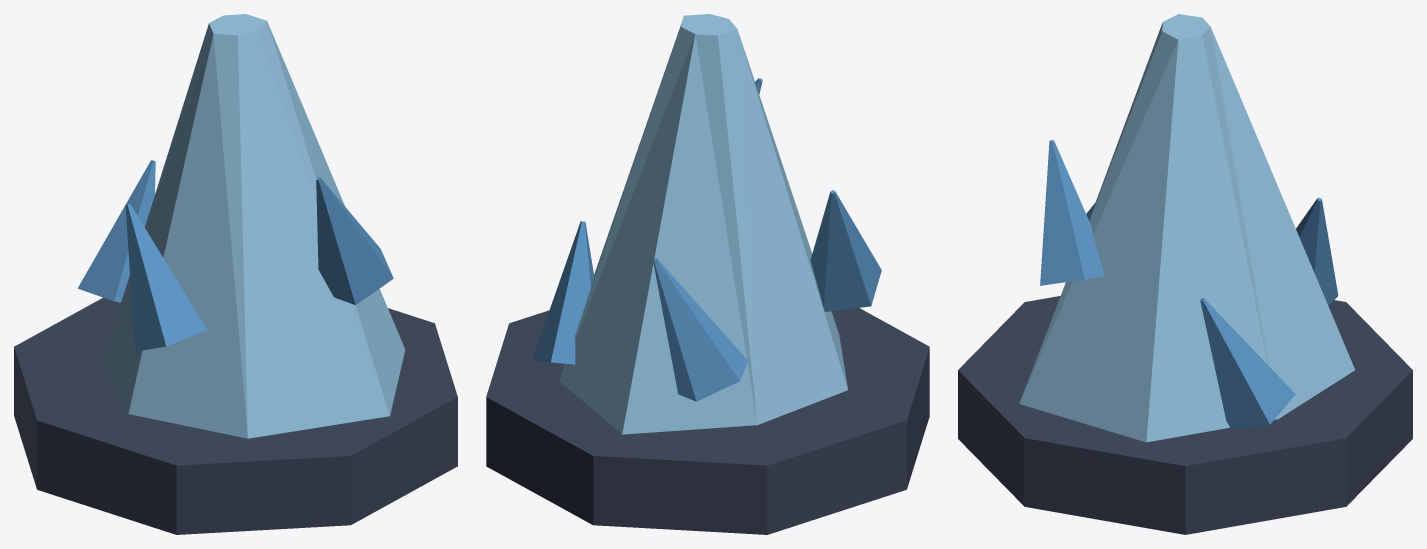
Rendered from ice_tower.obj.
The picture shows the model from 3 angles, left to right: view 1: azimuth 30°, elevation 25°; view 2: azimuth 150°, elevation 25°; view 3: azimuth 270°, elevation 25°; orthographic projection.
Parts seen in each view (by area): view 1: IceTower; view 2: IceTower; view 3: IceTower.
Boxes of the visible parts, x1,y1,x2,y2 form: IceTower: (14,14,457,534); IceTower: (486,14,929,534); IceTower: (958,14,1412,534).
Bounding box in the file's own units: 0.9 × 0.9 × 0.9.
